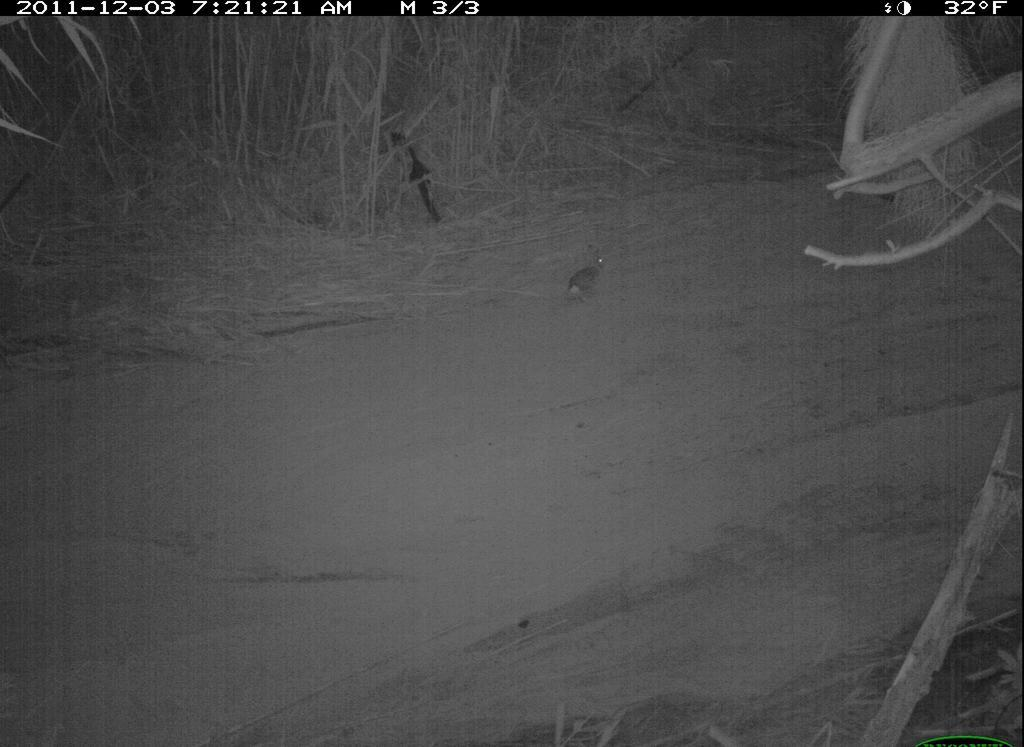rabbit: (552, 239, 629, 317)
